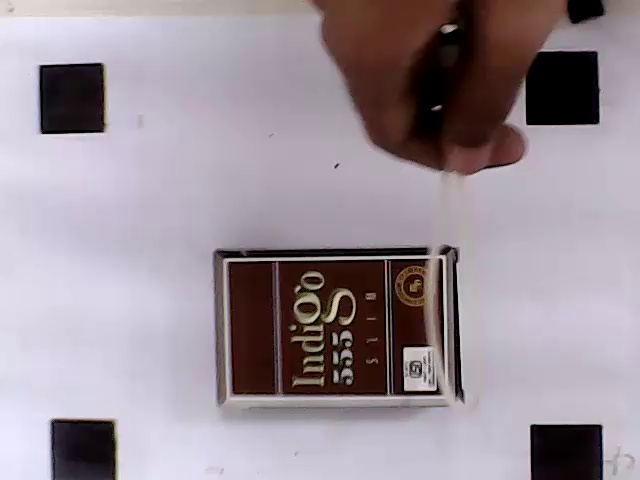BEX: (224, 258, 448, 397)
